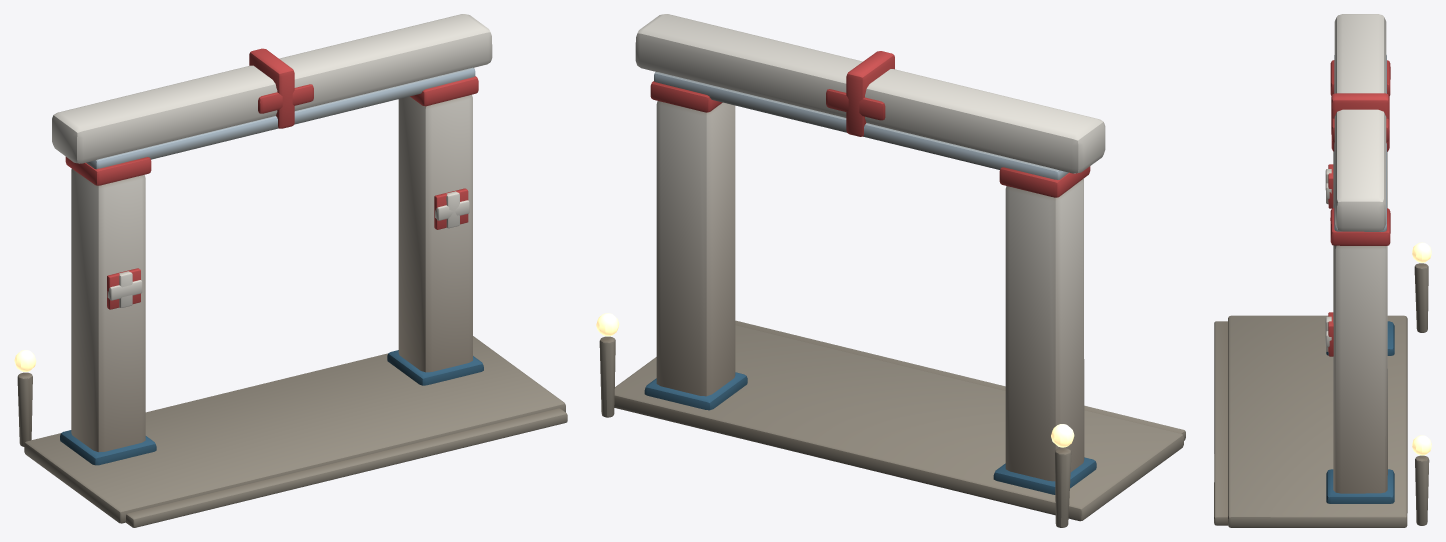
The picture shows the model from 3 angles, left to right: view 1: azimuth 30°, elevation 25°; view 2: azimuth 150°, elevation 25°; view 3: azimuth 270°, elevation 25°; orthographic projection. The views are drawn at different scales.
Visible parts, largest first — view 1: gate_515a75a6; view 2: gate_515a75a6; view 3: gate_515a75a6.
Part boxes in pixels (left/top/right/bottom): gate_515a75a6: left=14, top=14, right=567, bottom=527; gate_515a75a6: left=596, top=14, right=1185, bottom=527; gate_515a75a6: left=1214, top=14, right=1431, bottom=527.
Size of the model in its own units: 5.59 by 4.29 by 2.54.
